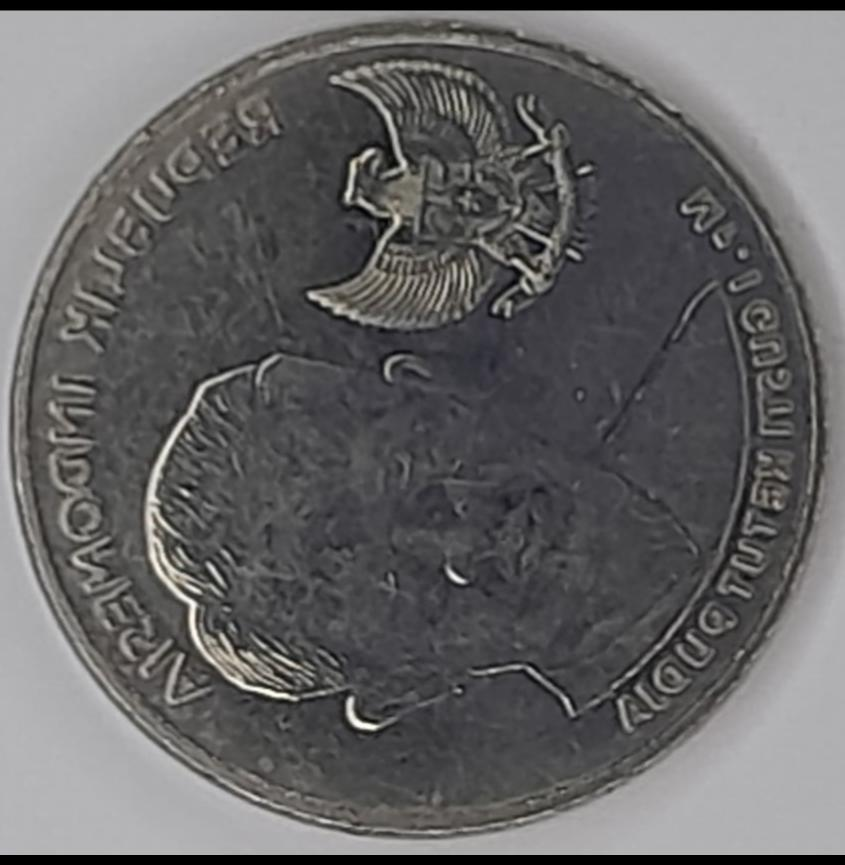coin_1000_e2016: (14, 17, 834, 865)
